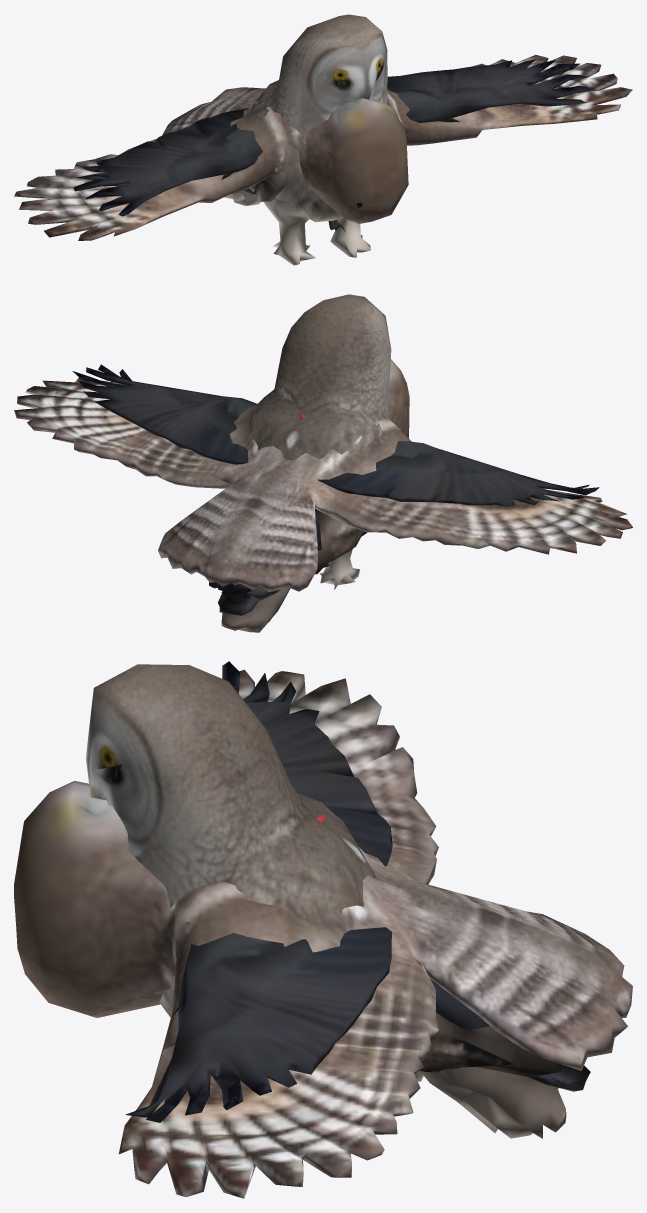
Rendered from birds.glb.
3 views of the same model, one above another, from view 1: azimuth 30°, elevation 25°; view 2: azimuth 150°, elevation 25°; view 3: azimuth 270°, elevation 25° (orthographic). The views are drawn at different scales.
Parts seen in each view (by area): view 1: owl_fly, raven_fly, owl_perch; view 2: owl_fly, owl_perch, raven_fly, raven_perch; view 3: owl_fly, owl_perch, raven_fly, raven_perch.
Boxes of the visible parts, x1,y1,x2,y2 form: owl_fly: (14,55,632,240); raven_fly: (73,59,595,216); owl_perch: (224,14,399,265); owl_fly: (14,359,632,592); owl_perch: (209,294,391,632); raven_fly: (72,364,599,550); raven_perch: (218,563,329,615); owl_fly: (14,669,632,1198); owl_perch: (86,664,566,1138); raven_fly: (125,661,489,1122); raven_perch: (527,1065,590,1091).
Bounding box in the file's own units: 1.4 × 0.5708 × 0.698.
Materials: 1 (1 with a texture image).
